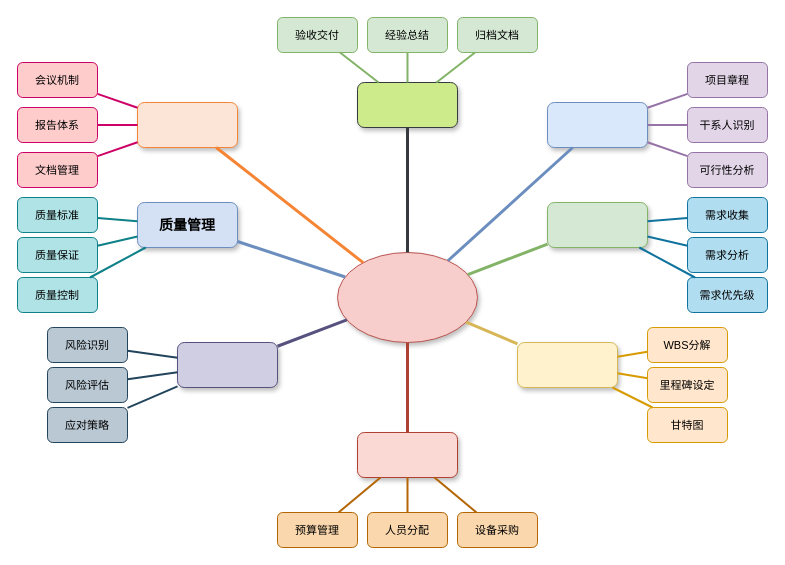
Image size: 785x565. Some labels were removed from this diagram. The centre of each missing label's shape, as x and y in pixels:
沟通管理: [188,126]
资源管理: [408,456]
进度管理: [568,366]
需求管理: [598,226]
项目启动: [598,126]
项目收尾: [408,106]
项目规划: [408,299]
风险管理: [228,366]
